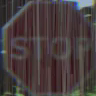Stop: (8, 8, 90, 79)
